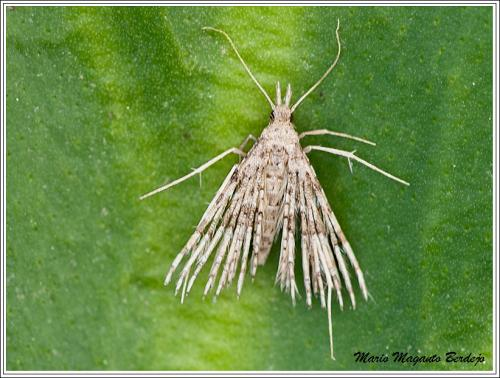Alucitidae: (130, 17, 422, 361)
moth: (128, 15, 420, 359)
